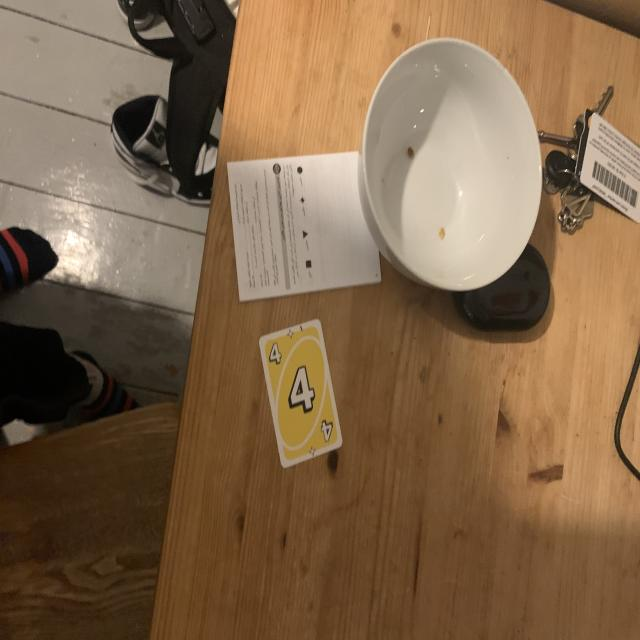lyellow-4: (266, 340, 285, 370)
